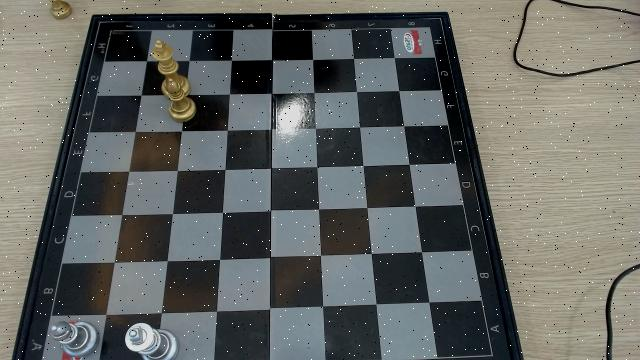black_bishop: (161, 76, 197, 123)
black_king: (151, 39, 182, 74)
white_bishop: (47, 321, 101, 358)
white_king: (123, 323, 179, 360)
